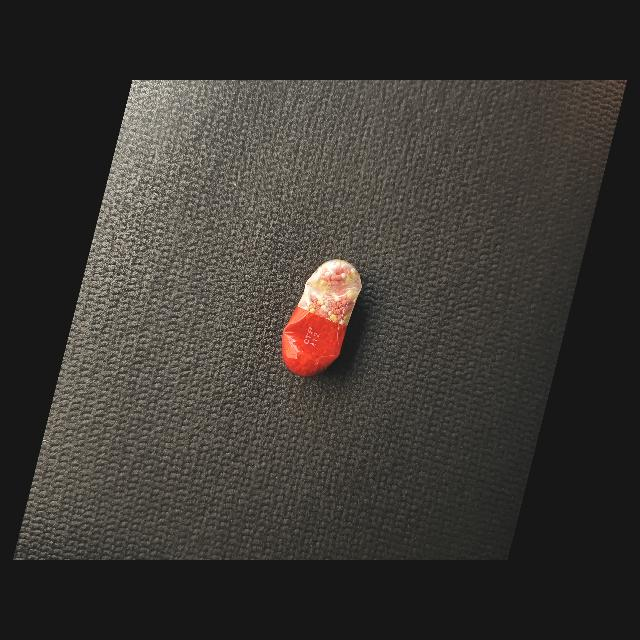Defective Capsule: (282, 259, 362, 377)
